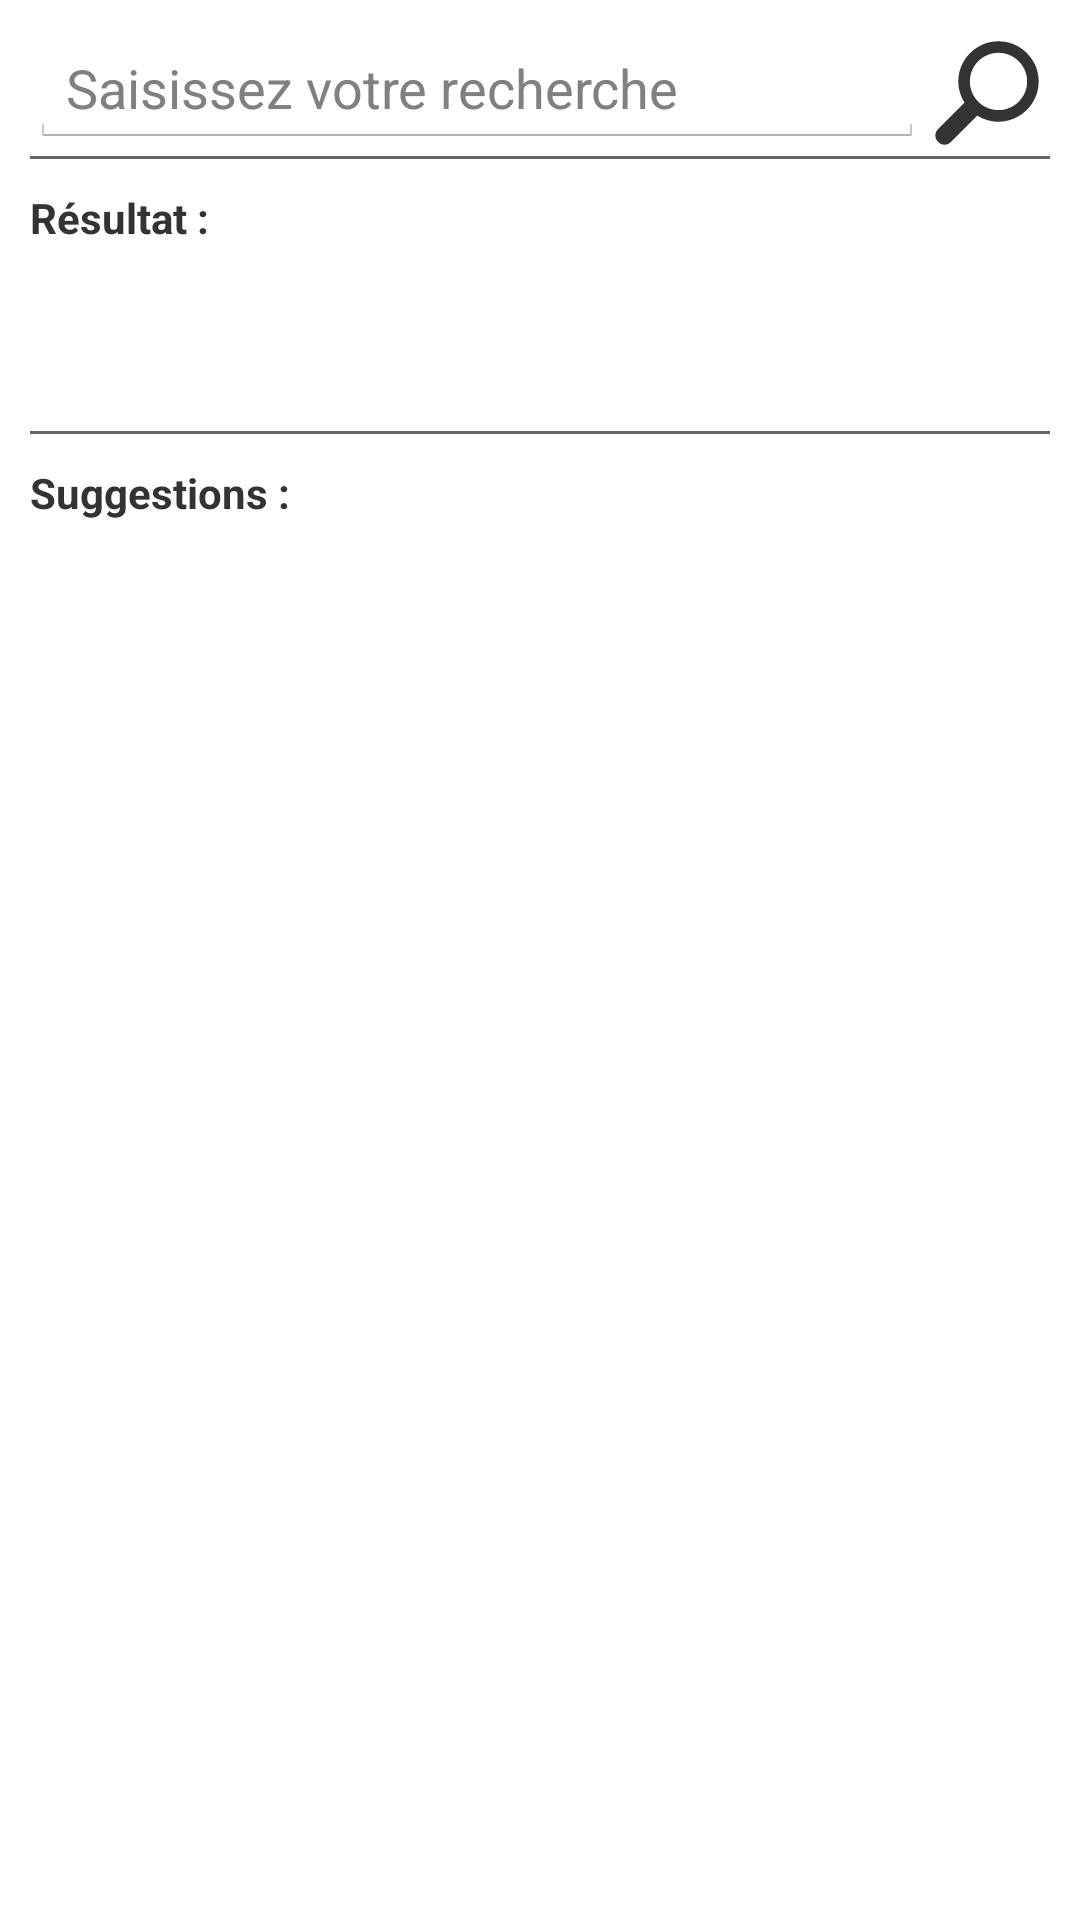

Icon bounding boxes for this 1080×1920 phone screenshot, format detection(x1, y1, x2, y2):
magnyfing glass: detection(935, 41, 1039, 145)
